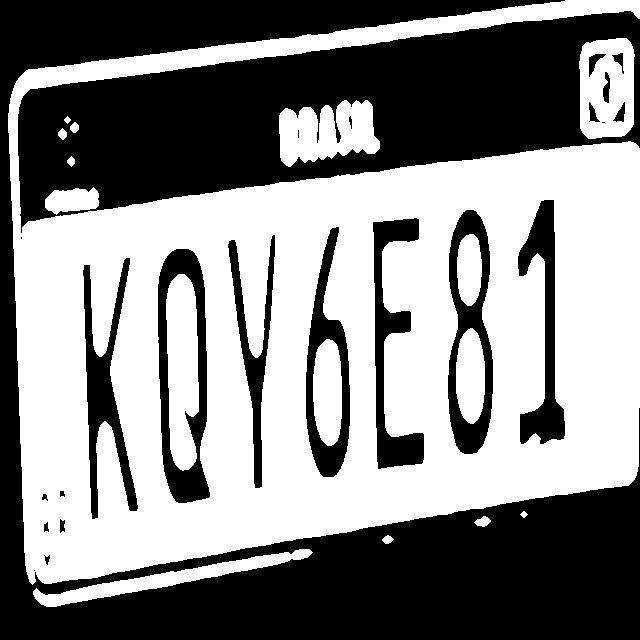1: (506, 193, 584, 458)
6: (298, 225, 360, 483)
8: (434, 206, 508, 459)
e: (366, 206, 436, 484)
k: (73, 256, 147, 528)
q: (142, 244, 222, 512)
y: (224, 227, 288, 489)
